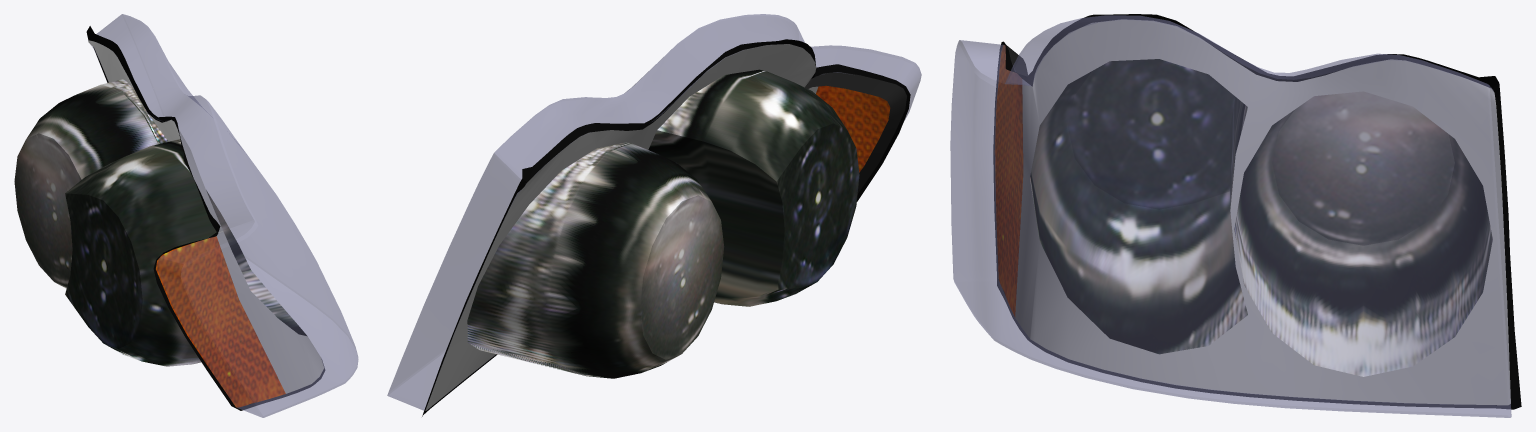
3 renders of one model, left to right at view 1: azimuth 30°, elevation 25°; view 2: azimuth 150°, elevation 25°; view 3: azimuth 270°, elevation 25°, orthographic. The views are drawn at different scales.
Parts seen in each view (by area): view 1: J732_061B_R_J732_061B_R_6_DTaSI, J732_061B_R_J732_061B_R_4_N, J732_061B_R_J732_061B_R_5_N, J732_061B_R_J732_061B_R_3_N, J732_061B_R_1_DaS_J732_061B_R, J732_061B_R_J732_061B_R_7_D; view 2: J732_061B_R_J732_061B_R_5_N, J732_061B_R_J732_061B_R_4_N, J732_061B_R_J732_061B_R_6_DTaSI, J732_061B_R_1_DaS_J732_061B_R, J732_061B_R_J732_061B_R_7_D, J732_061B_R_J732_061B_R_3_N, J732_061B_R_J732_061B_R_2_D; view 3: J732_061B_R_J732_061B_R_6_DTaSI, J732_061B_R_J732_061B_R_5_N, J732_061B_R_1_DaS_J732_061B_R, J732_061B_R_J732_061B_R_4_N, J732_061B_R_J732_061B_R_7_D, J732_061B_R_J732_061B_R_3_N.
Boxes of the visible parts, x1,y1,x2,y2 form: J732_061B_R_J732_061B_R_6_DTaSI: [91, 14, 358, 417]; J732_061B_R_J732_061B_R_4_N: [65, 139, 306, 366]; J732_061B_R_J732_061B_R_5_N: [14, 79, 168, 288]; J732_061B_R_J732_061B_R_3_N: [156, 236, 285, 407]; J732_061B_R_1_DaS_J732_061B_R: [88, 40, 323, 393]; J732_061B_R_J732_061B_R_7_D: [86, 26, 324, 410]; J732_061B_R_J732_061B_R_5_N: [467, 142, 724, 378]; J732_061B_R_J732_061B_R_4_N: [648, 69, 859, 306]; J732_061B_R_J732_061B_R_6_DTaSI: [387, 14, 921, 410]; J732_061B_R_1_DaS_J732_061B_R: [425, 44, 817, 410]; J732_061B_R_J732_061B_R_7_D: [422, 39, 910, 416]; J732_061B_R_J732_061B_R_3_N: [816, 85, 890, 172]; J732_061B_R_J732_061B_R_2_D: [805, 72, 906, 193]; J732_061B_R_J732_061B_R_6_DTaSI: [950, 15, 1511, 417]; J732_061B_R_J732_061B_R_5_N: [1234, 91, 1492, 376]; J732_061B_R_1_DaS_J732_061B_R: [1015, 19, 1510, 405]; J732_061B_R_J732_061B_R_4_N: [1030, 59, 1247, 354]; J732_061B_R_J732_061B_R_7_D: [993, 14, 1521, 409]; J732_061B_R_J732_061B_R_3_N: [995, 45, 1023, 316].
Size of the model in its own units: 28.96 by 28.95 by 45.78.
